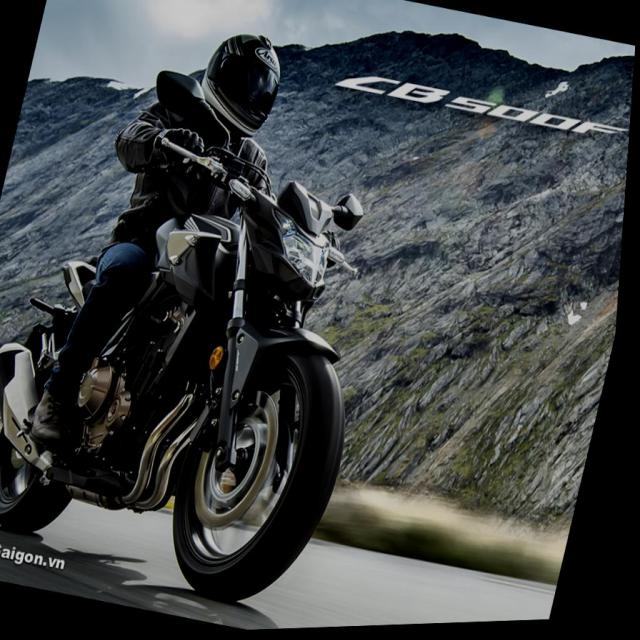CB500F: (0, 42, 425, 632)
